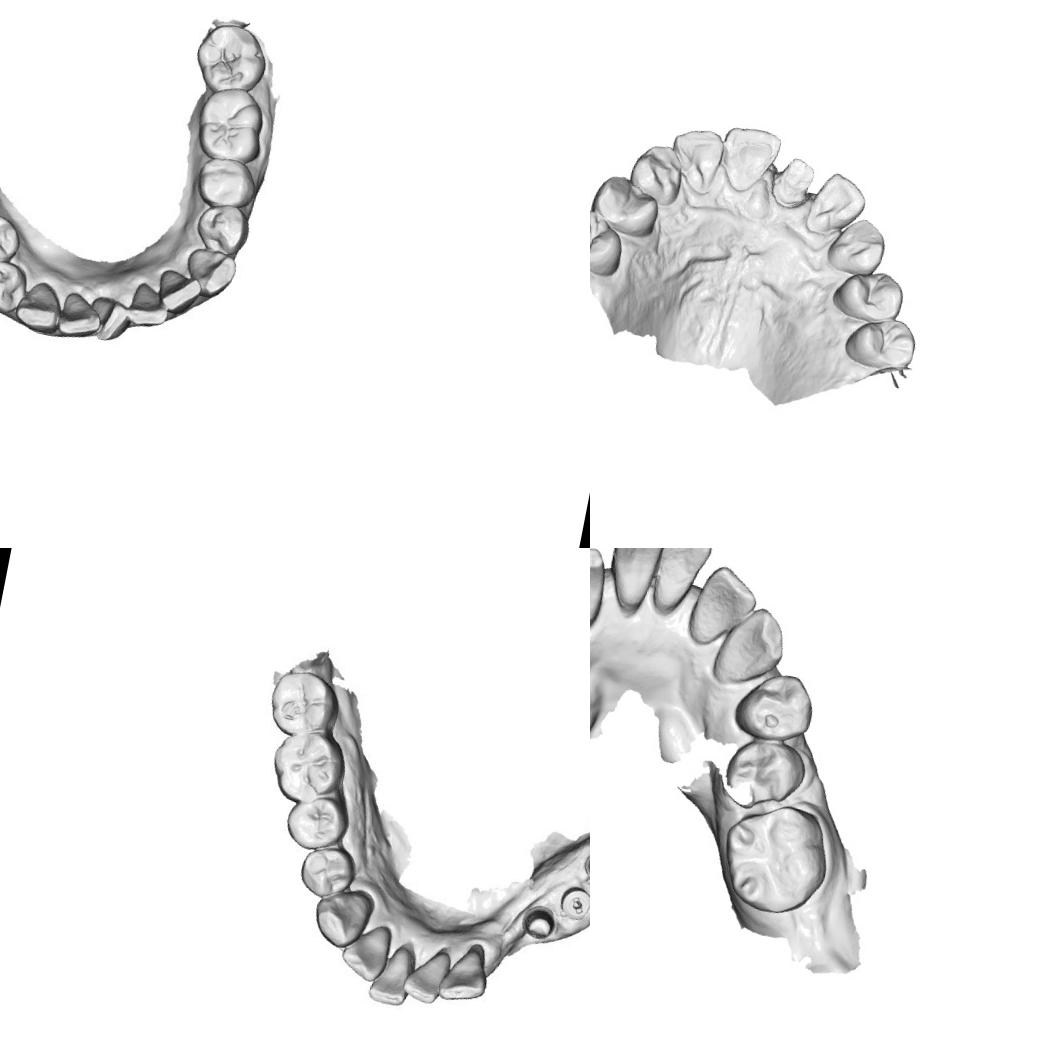abutment: (514, 900, 560, 945)
canine: (707, 597, 791, 693), (822, 210, 890, 280), (306, 884, 374, 952), (624, 139, 688, 208), (176, 244, 238, 302), (12, 278, 66, 336)
crown: (767, 152, 818, 212)
implant_minus: (555, 880, 590, 923)
incisor: (681, 558, 764, 652), (713, 122, 783, 198), (802, 167, 870, 242), (663, 122, 726, 196), (645, 548, 715, 614), (334, 916, 396, 986), (600, 548, 667, 611), (434, 940, 493, 1007), (363, 940, 418, 1010), (398, 943, 454, 1007), (122, 280, 175, 331), (55, 290, 108, 341), (86, 293, 134, 348), (156, 267, 204, 318), (590, 548, 612, 630)
molar: (710, 795, 834, 924), (264, 722, 352, 810), (189, 16, 274, 101), (190, 81, 270, 168), (263, 664, 344, 743)
premolar: (728, 660, 824, 749), (716, 732, 812, 818), (828, 262, 908, 328), (590, 170, 664, 240), (840, 310, 919, 375), (279, 790, 353, 857), (293, 839, 362, 904), (186, 198, 252, 262), (192, 152, 256, 214), (590, 203, 629, 279), (0, 253, 32, 317), (0, 206, 30, 273)
